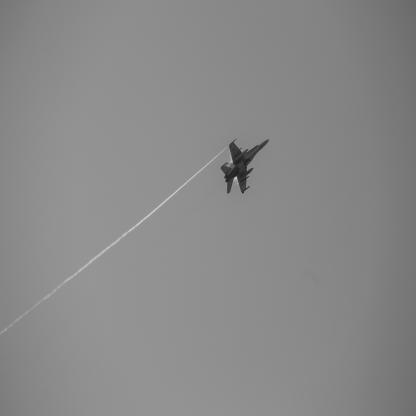F18: (222, 140, 271, 195)
